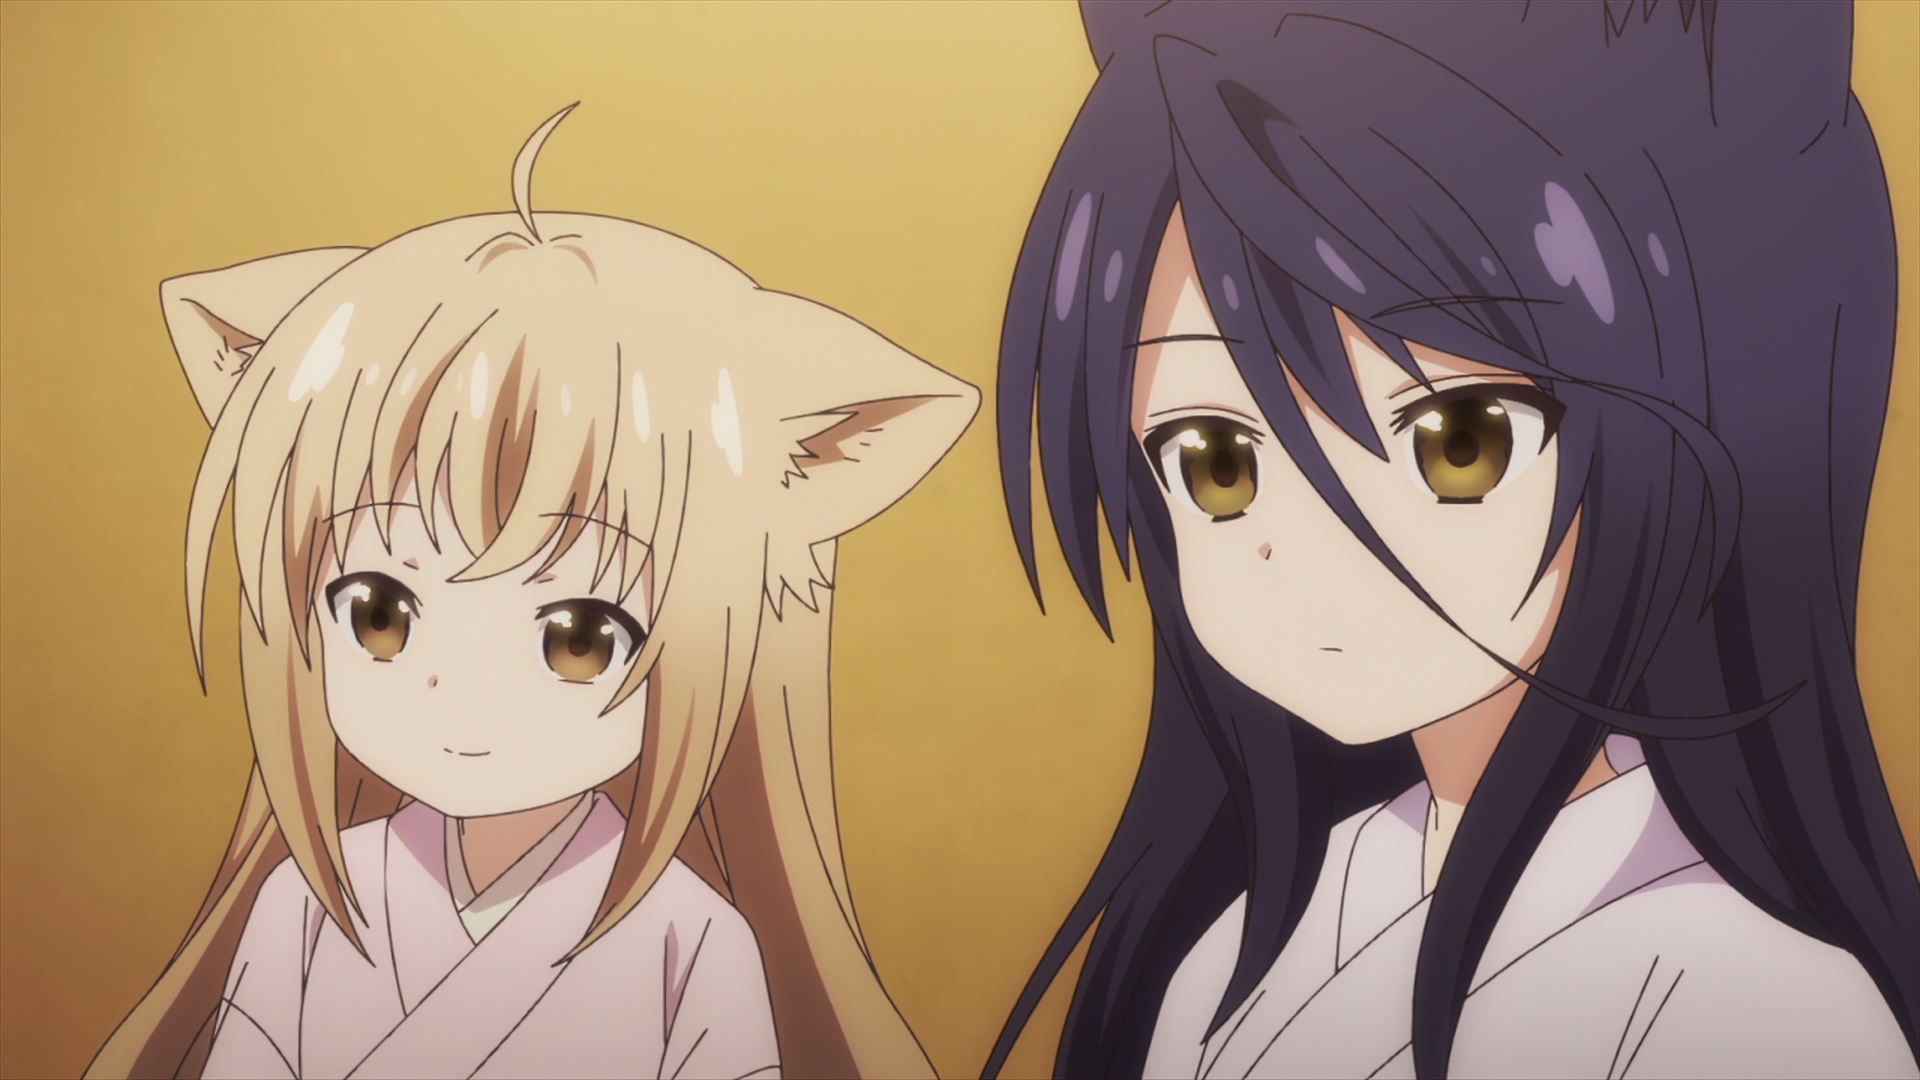柚: (76, 104, 985, 1080)
皋: (984, 1, 1920, 1080)
